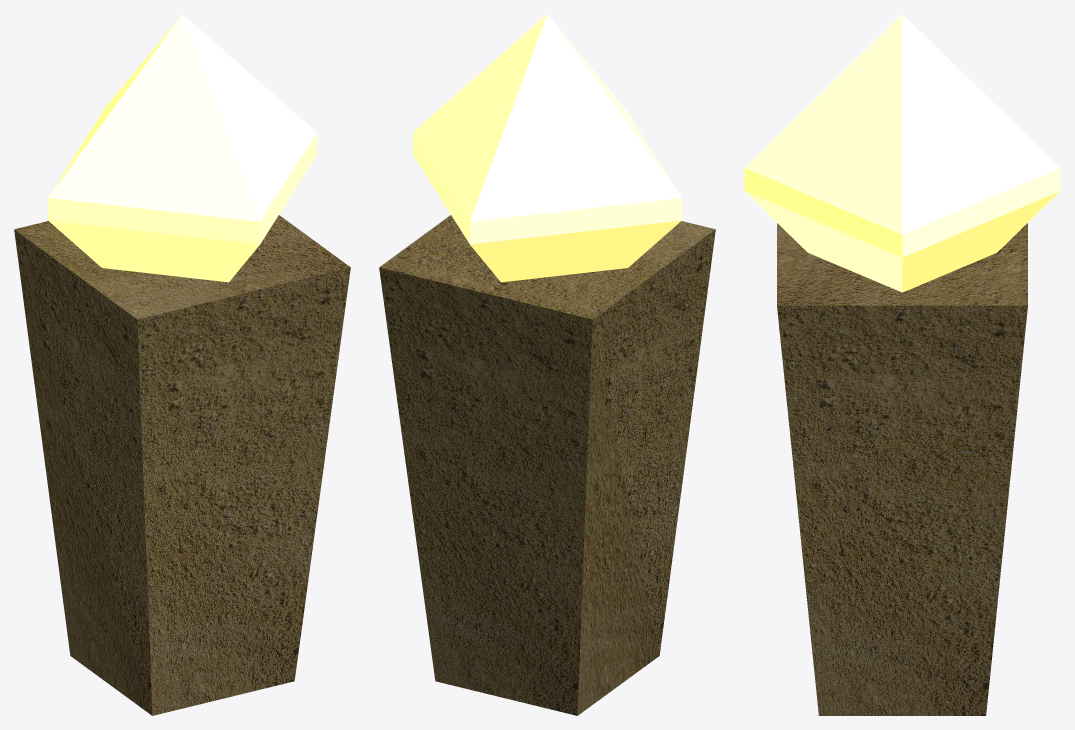
The model's file is SandPillar.glb.
3 views of the same model, side by side, from view 1: azimuth 30°, elevation 25°; view 2: azimuth 150°, elevation 25°; view 3: azimuth 270°, elevation 25° (orthographic).
Visible parts, largest first — view 1: SolidFloor; view 2: SolidFloor; view 3: SolidFloor.
Boxes of the visible parts, x1,y1,x2,y2 form: SolidFloor: (14,14,350,715); SolidFloor: (379,14,715,715); SolidFloor: (744,14,1060,715).
Size of the model in its own units: 0.3373 by 0.7847 by 0.3373.
Materials: 2 (1 with a texture image).
